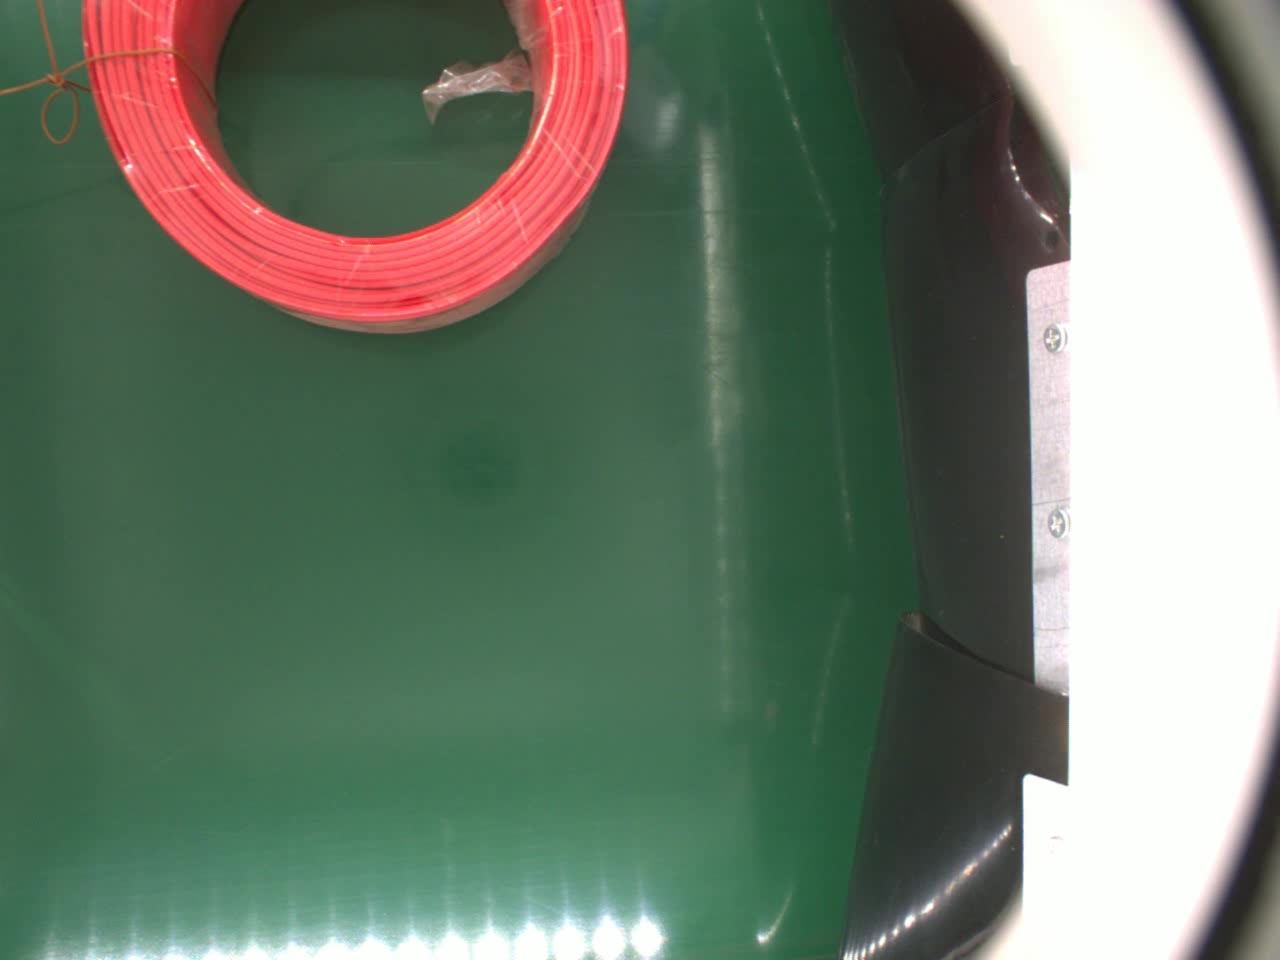red: (79, 2, 630, 332)
